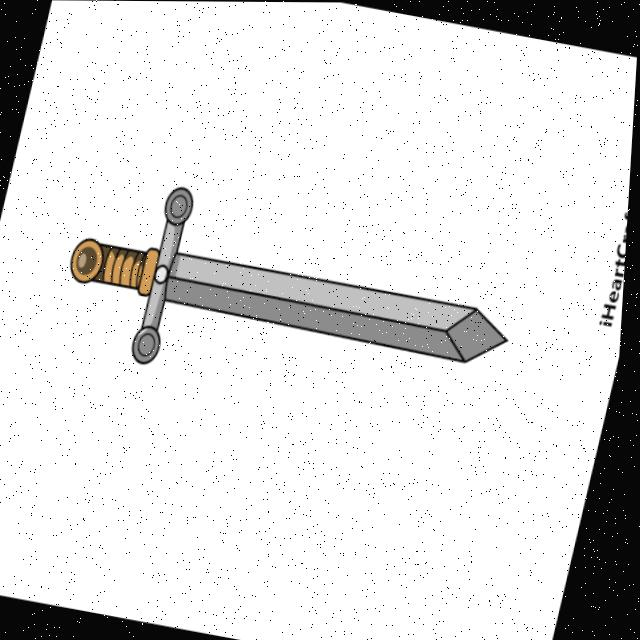knife: (49, 165, 546, 421)
